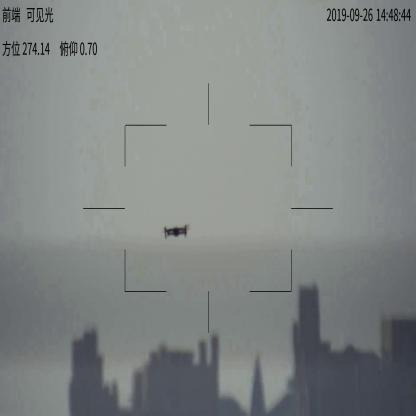uav: (160, 221, 192, 241)
